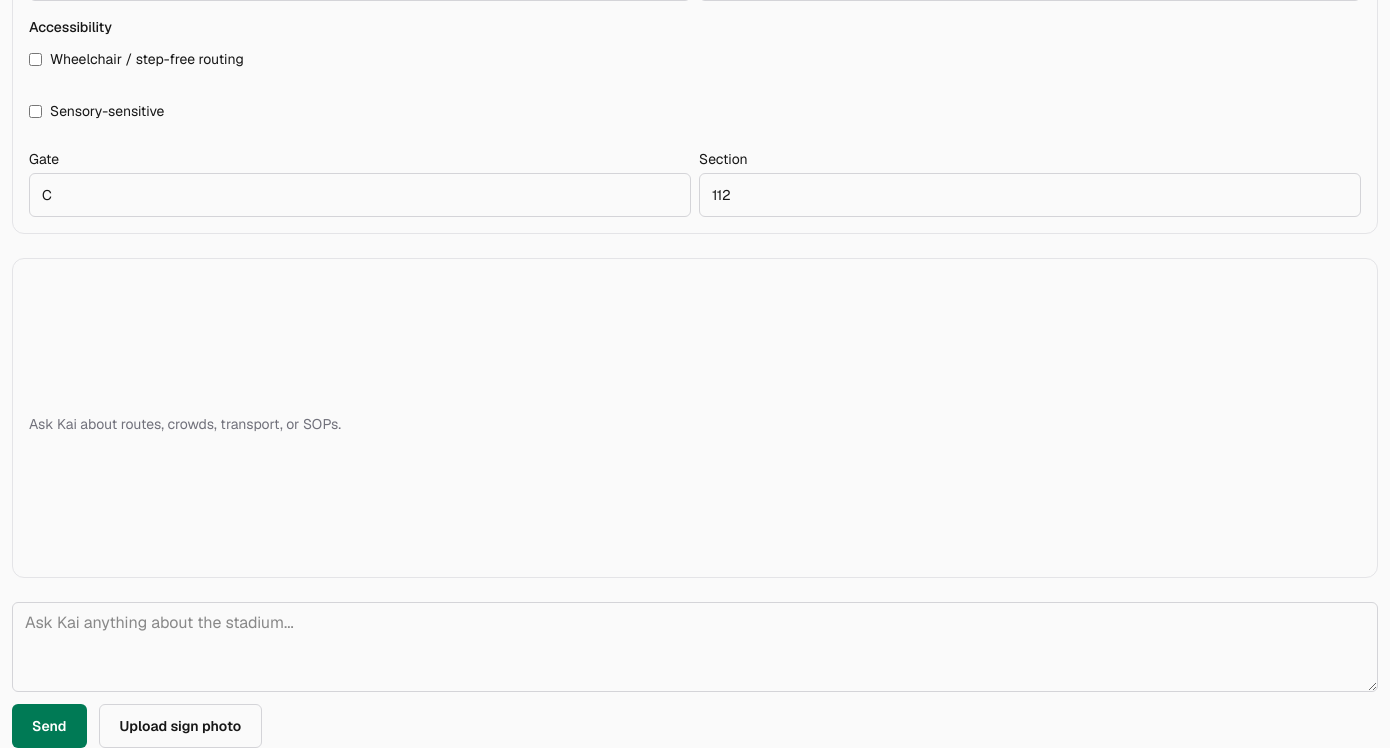
Test case: ChatWindow › submits a message and shows assistant reply
(page scrolled)
Type "Which gate?" into the text box named "message to kai" at {"x": 695, "y": 647}, box left=12, top=602, right=1378, bottom=692
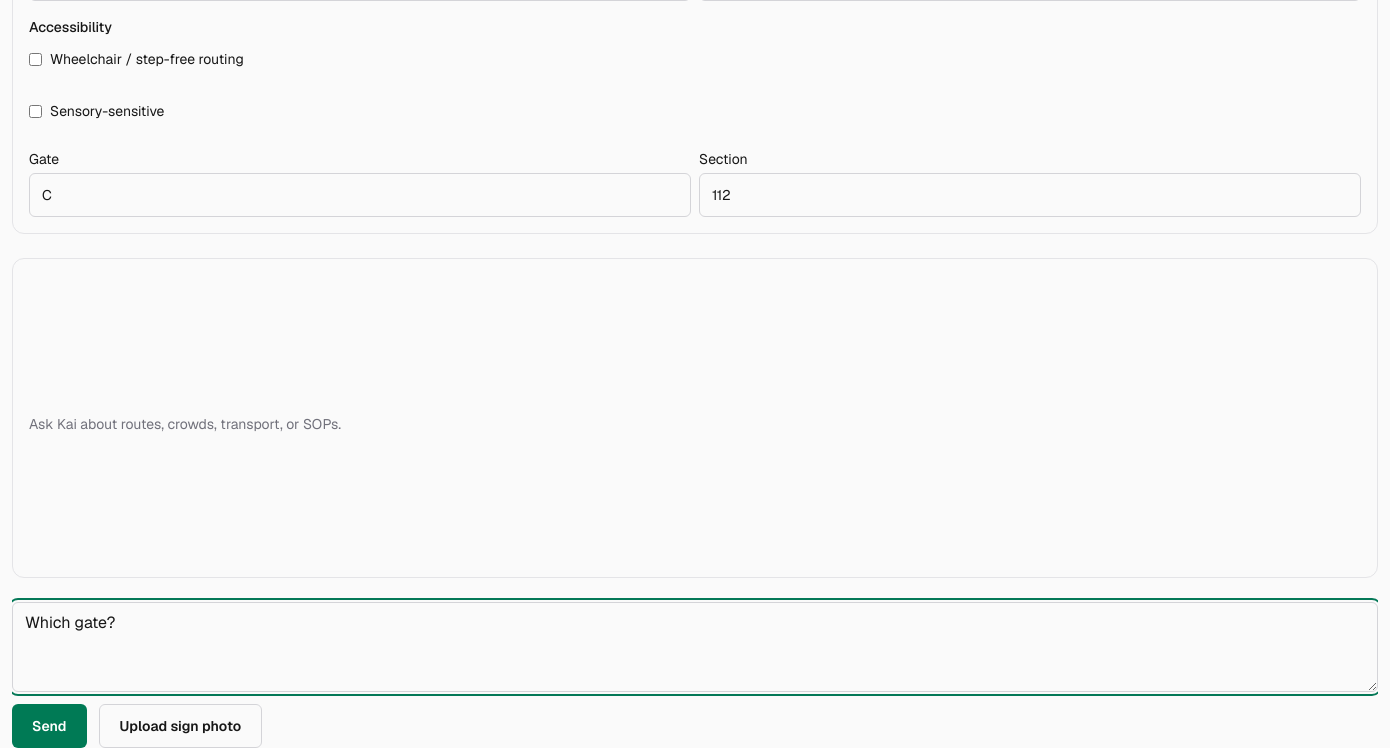
Click the button "Send" at {"x": 49, "y": 726}, box left=12, top=704, right=86, bottom=747
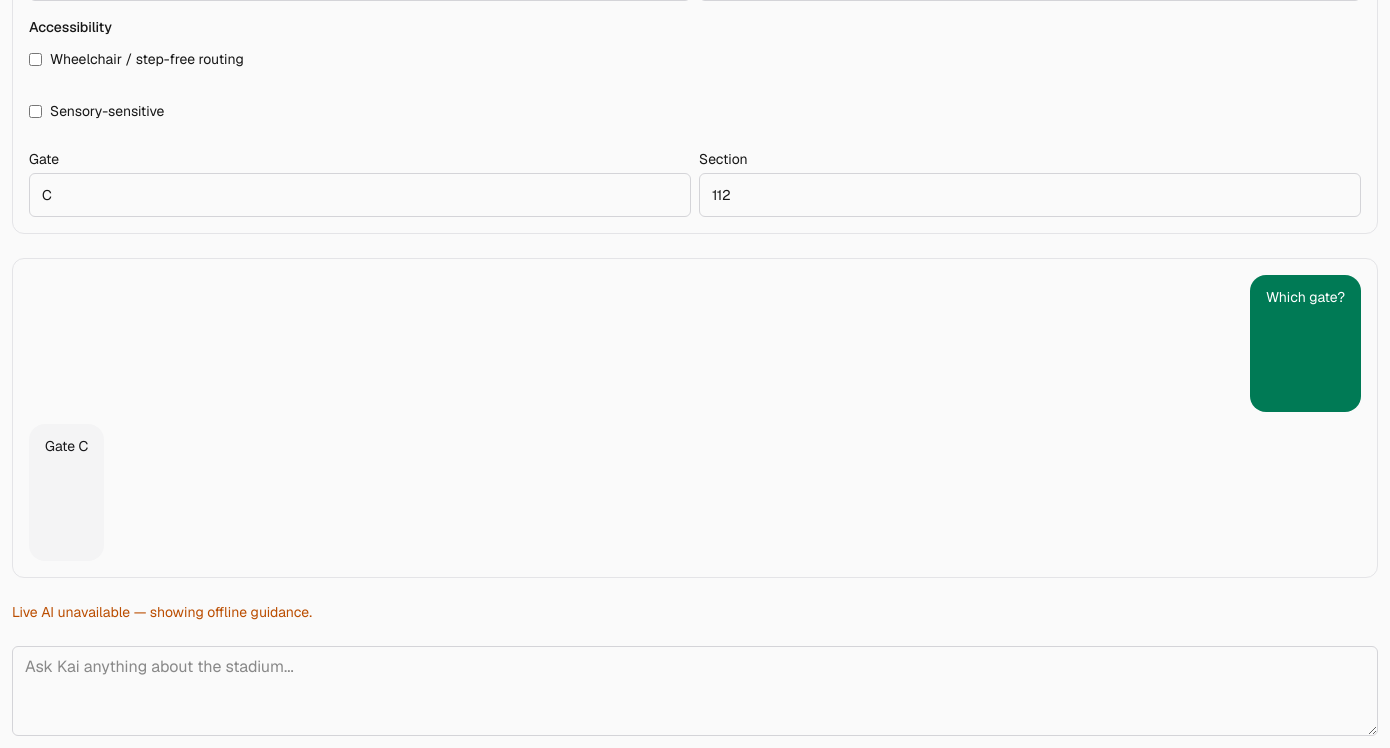
Now the text "Gate C" is shown, box left=29, top=424, right=104, bottom=561
